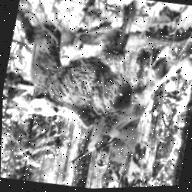boar: (8, 0, 192, 145)
